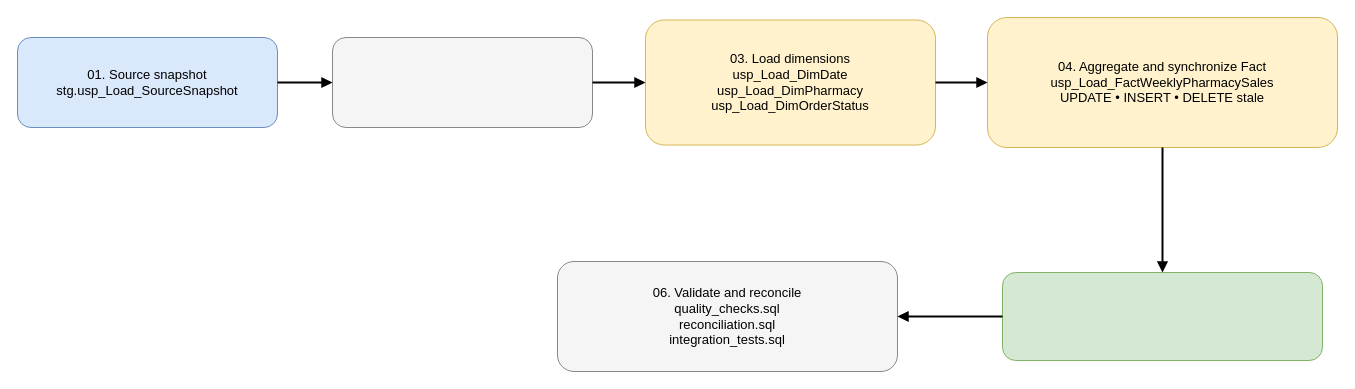
Some shapes in this 1355 by 389 pixel diagram are drawn without their labels. The shapes that lost their labels are listed below. From the top down, each one's centre as x and y in pixels, then its label:
the point at 462,82: 02. Validate stg.usp_Validate_SourceSnapshot
the point at 1162,316: 05. Reporting view vw_WeeklyPharmacySales
